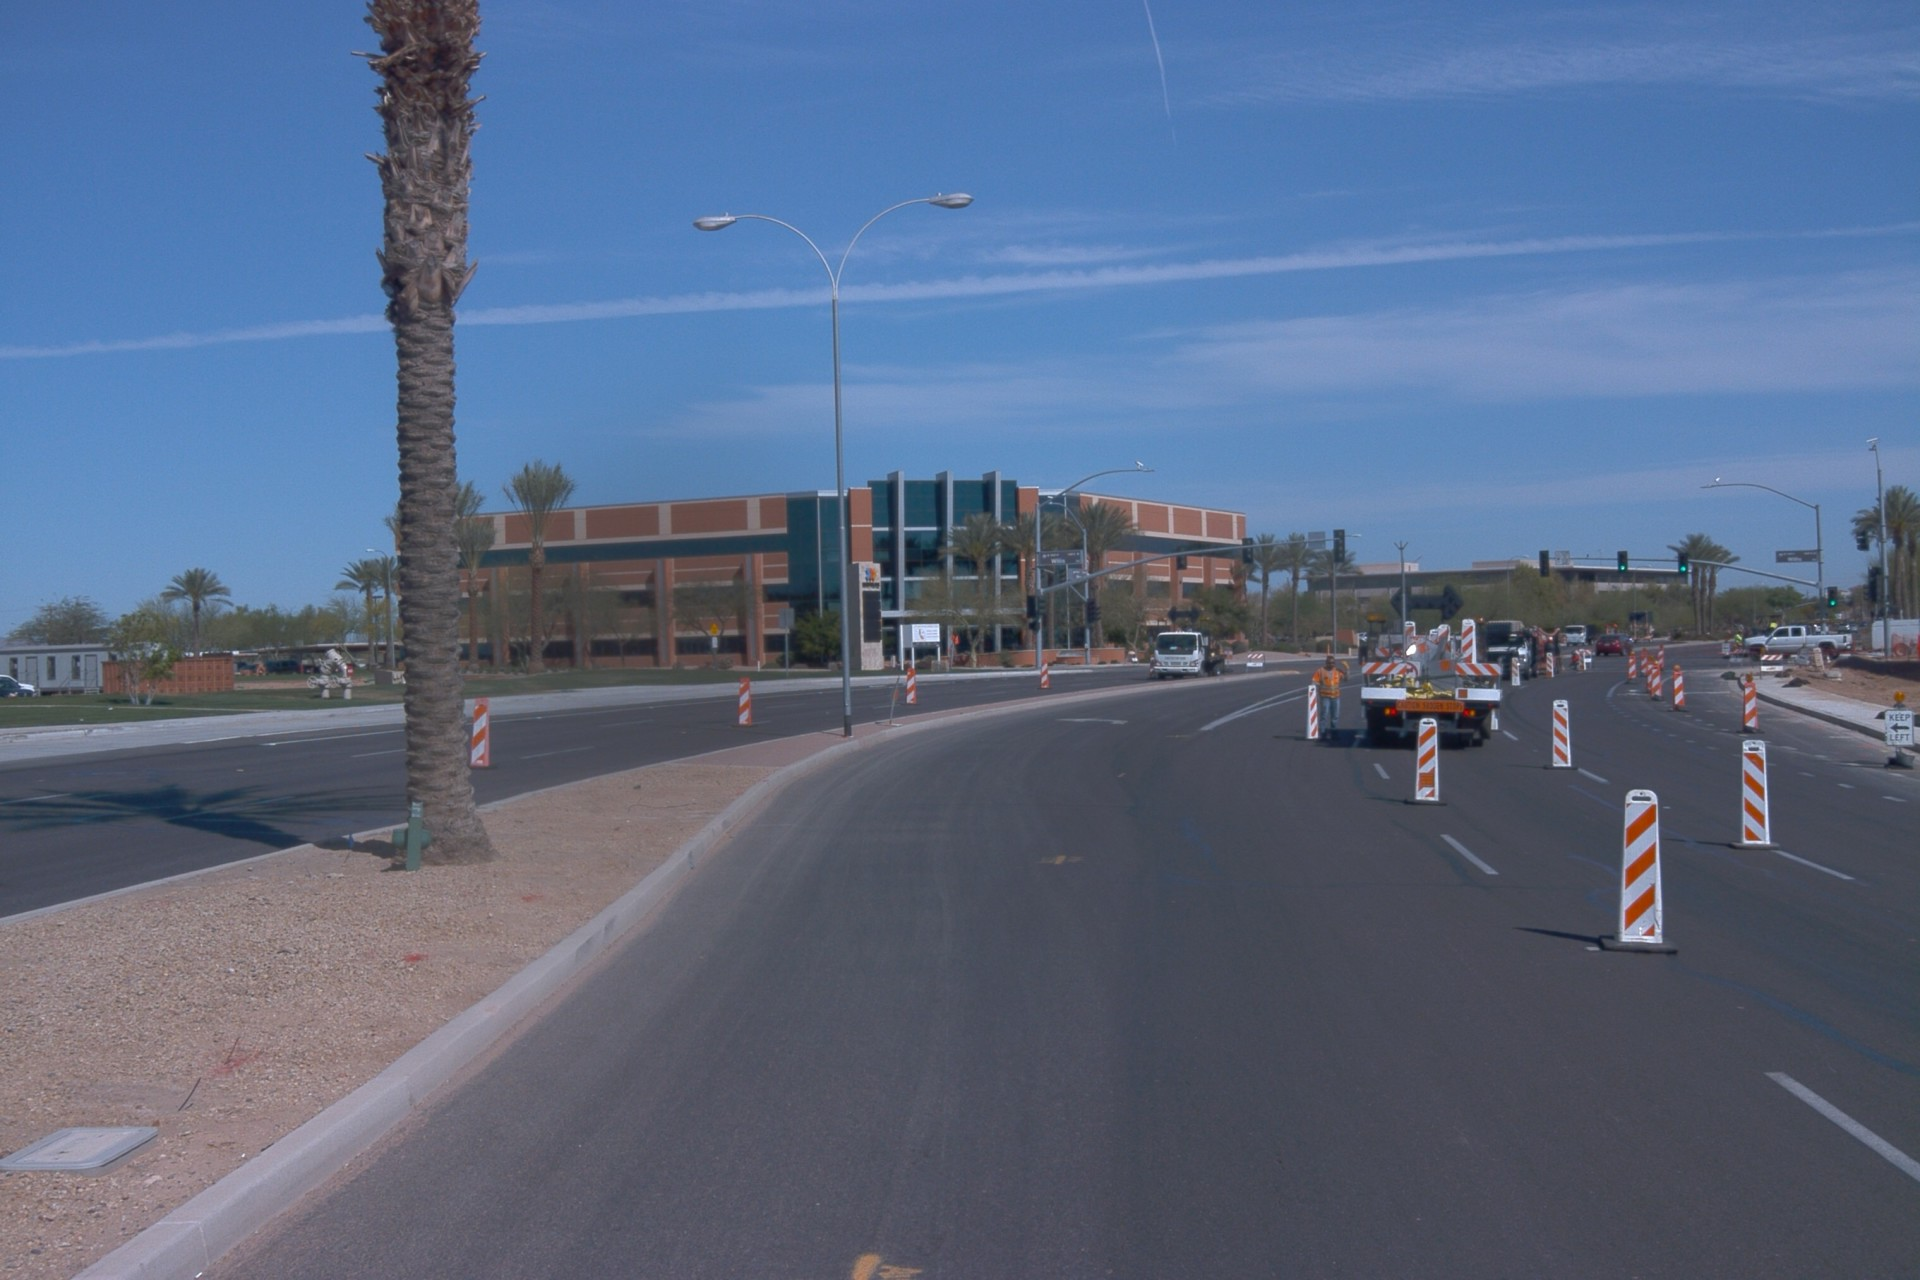TYPE_PEDESTRIAN: (1310, 655, 1351, 743)
TYPE_VEHICLE: (1343, 581, 1512, 753), (1481, 617, 1564, 683), (1742, 622, 1857, 669), (1146, 625, 1238, 683), (1594, 627, 1633, 658), (0, 668, 37, 700), (1565, 620, 1603, 651), (0, 674, 40, 702)
